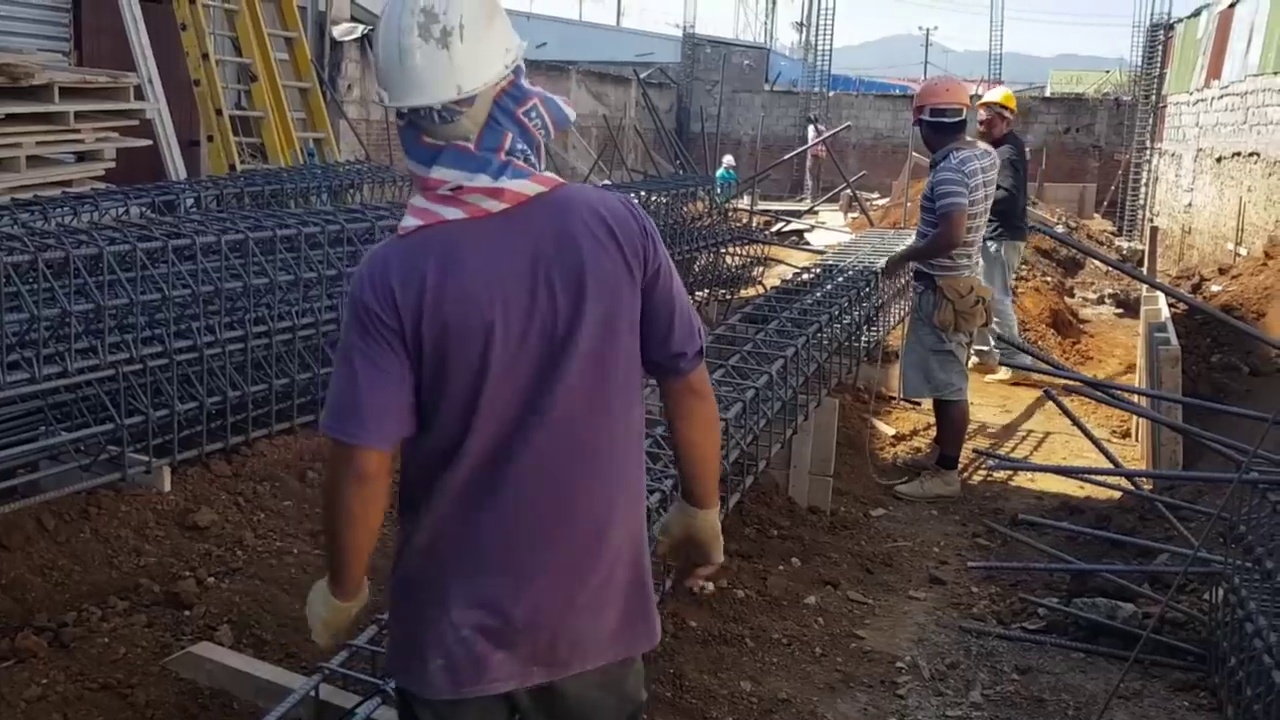helmet: (361, 4, 525, 109), (912, 75, 975, 125), (975, 84, 1019, 121), (722, 154, 736, 167)
helmet-off: (805, 115, 818, 125)
helmet-on: (363, 8, 541, 192), (913, 75, 975, 157), (973, 80, 1022, 137), (720, 153, 736, 171)
person: (316, 8, 718, 717), (888, 76, 999, 476), (971, 73, 1048, 367), (804, 114, 839, 195), (713, 154, 736, 197)
